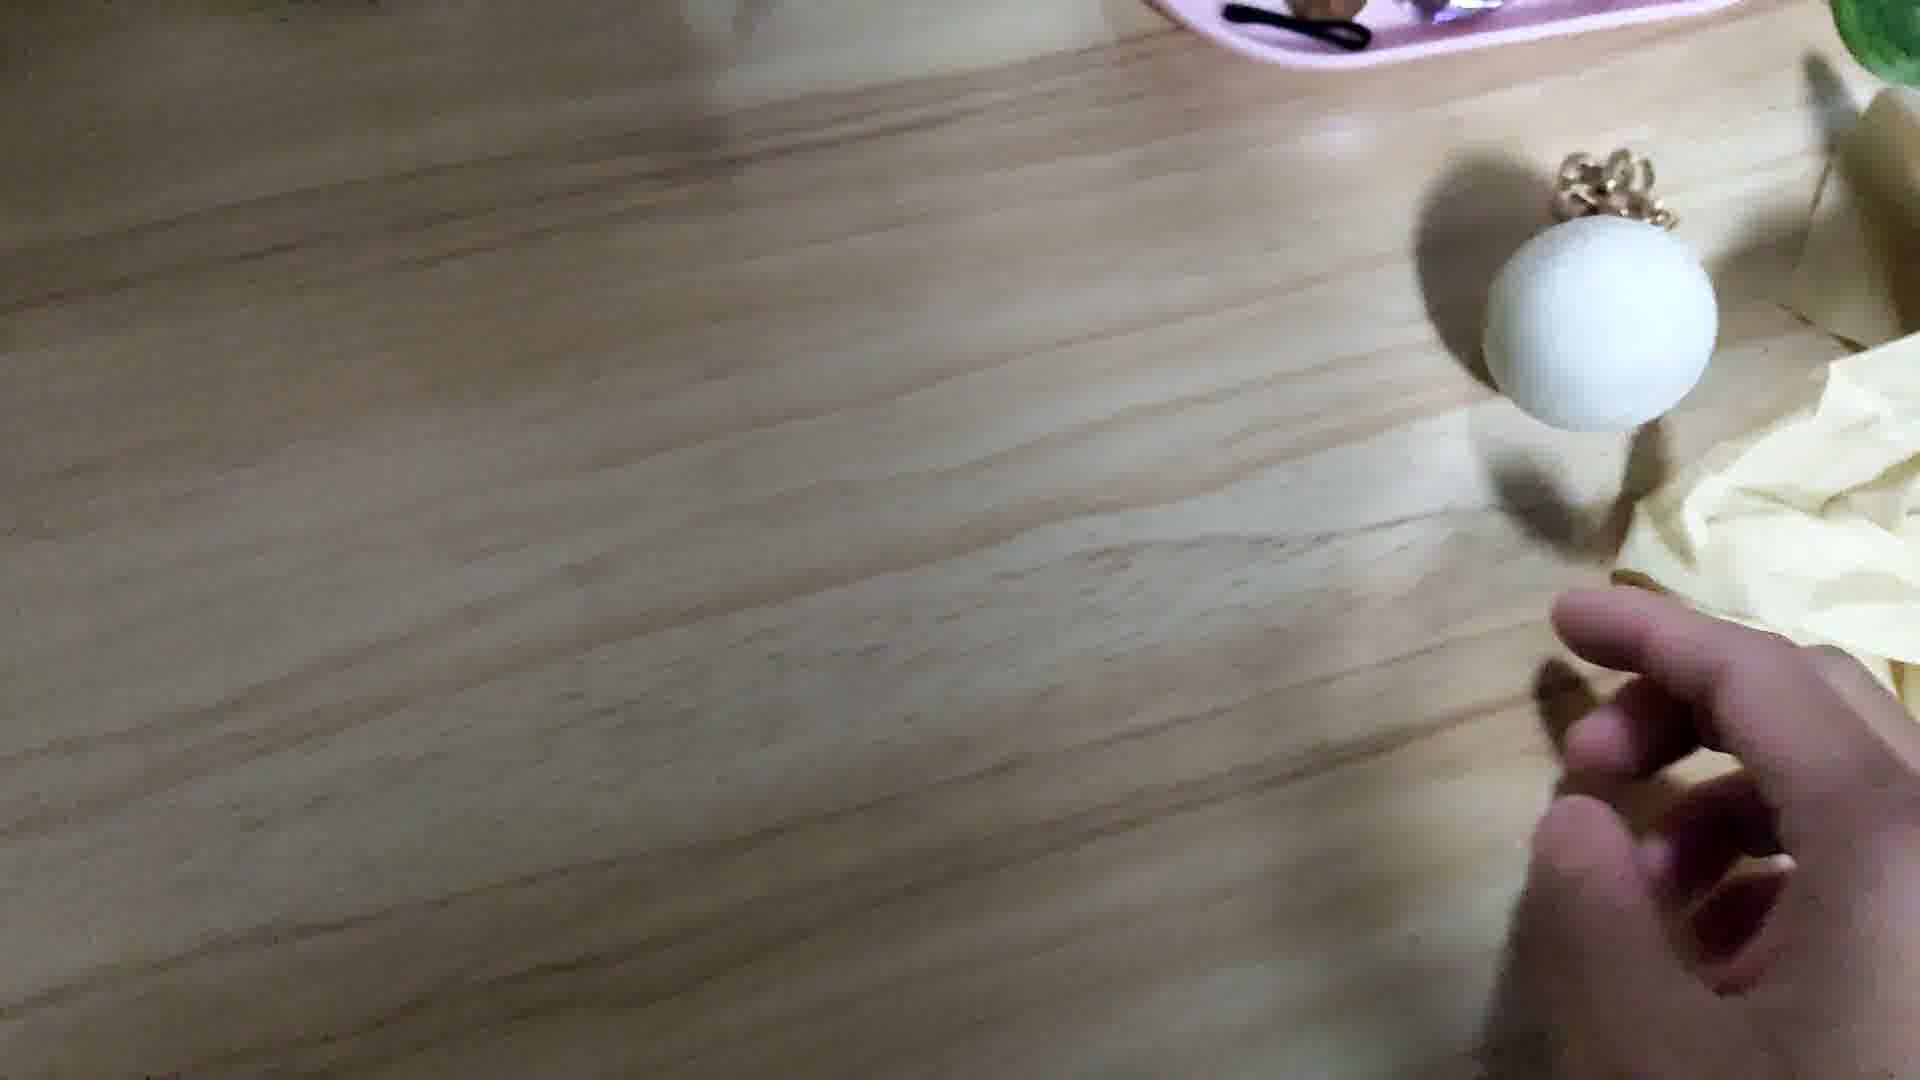Ball: (1484, 208, 1714, 433)
